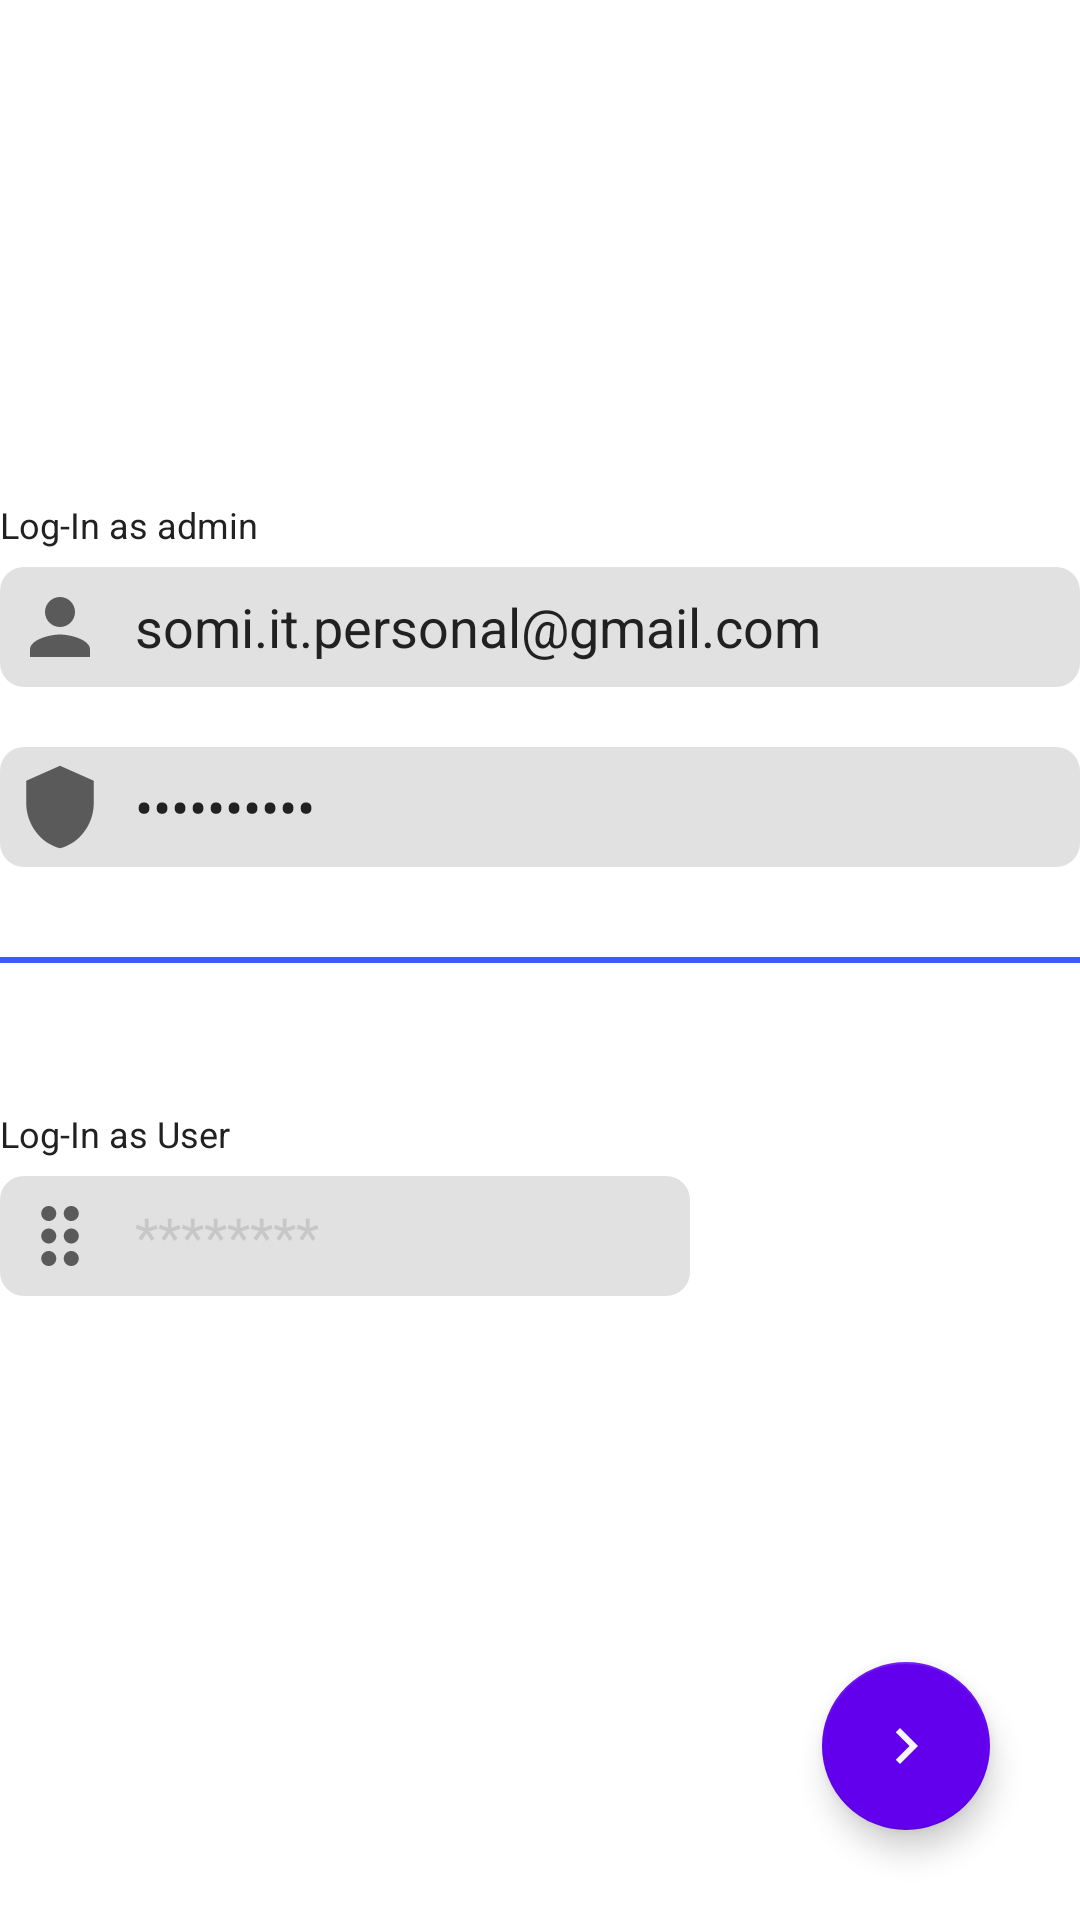

Locate icon controls on the screen. Image size 1080px×1920px, boxes as (x1, y1, x2, y2).
next: (822, 1662, 990, 1830)
